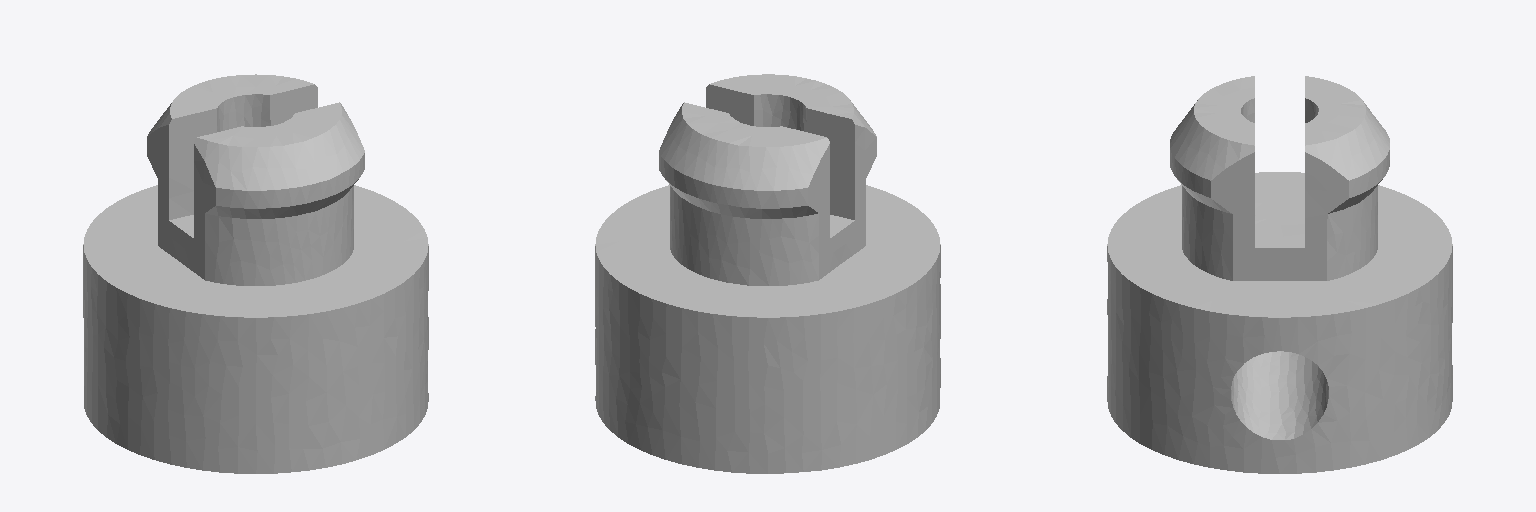
File: tail_base_with_peg.STL__sf.obj
The picture shows the model from 3 angles: view 1: azimuth 30°, elevation 25°; view 2: azimuth 150°, elevation 25°; view 3: azimuth 270°, elevation 25°; orthographic projection.
Size of the model in its own units: 14 by 13 by 14.